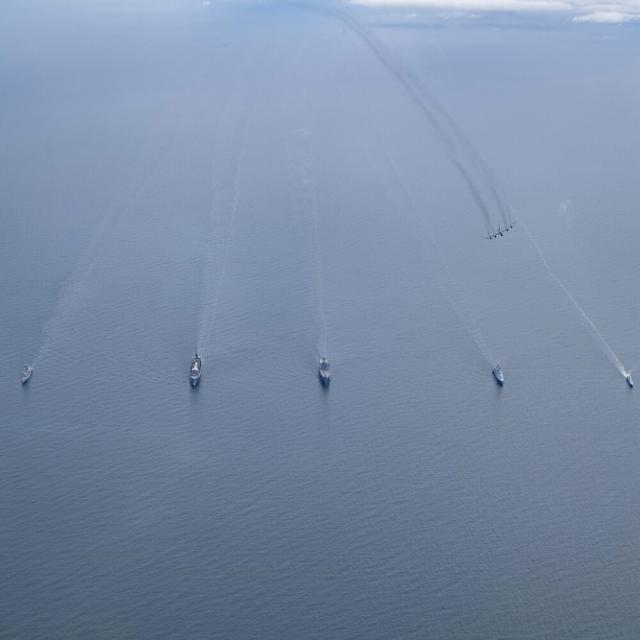MIL_Plane: (484, 220, 517, 241)
